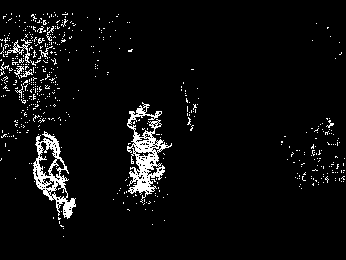person: (33, 135, 77, 223), (180, 65, 203, 135)
